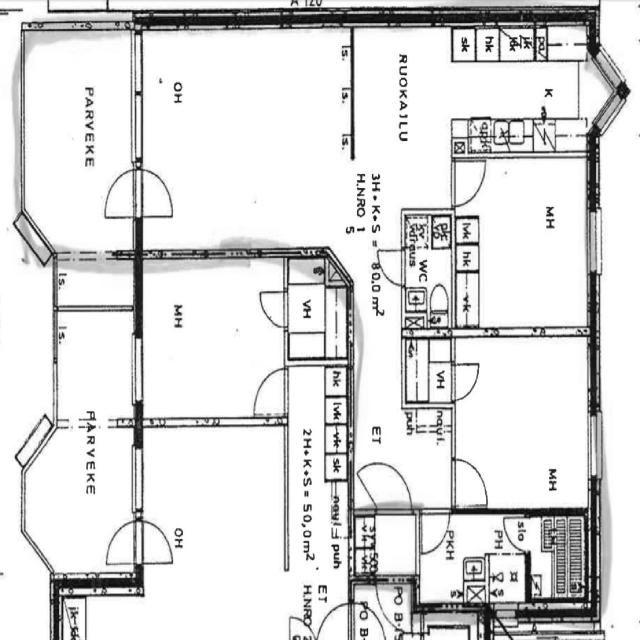door: (356, 459, 414, 515), (367, 579, 412, 638), (135, 162, 178, 220), (98, 164, 141, 222), (450, 451, 492, 508), (135, 515, 178, 568), (250, 362, 288, 418), (104, 514, 140, 570), (450, 156, 488, 209), (416, 504, 452, 556), (254, 285, 292, 331), (316, 599, 352, 640), (374, 245, 408, 288), (449, 359, 483, 400), (500, 513, 531, 555), (489, 604, 521, 640)
window: (126, 47, 146, 175), (598, 40, 625, 124), (583, 406, 606, 486), (19, 212, 54, 264), (583, 204, 606, 282), (128, 327, 147, 412), (128, 441, 148, 521), (47, 344, 64, 420)
zone: (140, 29, 349, 260), (354, 24, 586, 156), (19, 26, 137, 266), (452, 156, 593, 332), (137, 258, 287, 422), (453, 336, 592, 510), (22, 420, 140, 580), (418, 506, 530, 608), (54, 306, 137, 427), (284, 264, 350, 362), (404, 208, 454, 330), (527, 512, 589, 604), (402, 335, 453, 407), (487, 552, 528, 608), (373, 578, 412, 634), (350, 589, 389, 640), (497, 21, 535, 61)
